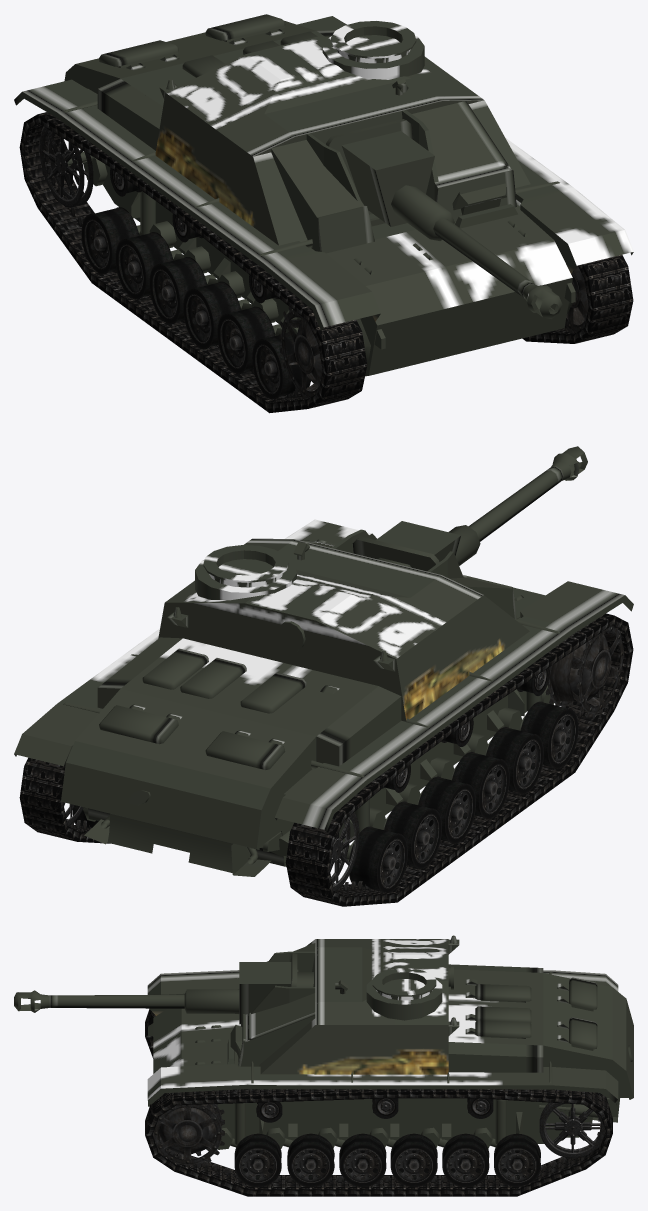
File: stugIII_model_track.FBX
3 views of the same model, one above another, from view 1: azimuth 30°, elevation 25°; view 2: azimuth 150°, elevation 25°; view 3: azimuth 270°, elevation 25° (orthographic). The views are drawn at different scales.
Parts seen in each view (by area): view 1: body, Righttrack, cannon, Lefttrack; view 2: body, Righttrack, cannon, Lefttrack; view 3: body, Lefttrack, cannon.
Part boxes in pixels (x1,y1,x2,y2): body: (14, 14, 633, 376); Righttrack: (19, 112, 367, 413); cannon: (326, 119, 562, 318); Lefttrack: (522, 255, 633, 343); body: (14, 519, 633, 876); Righttrack: (285, 613, 633, 906); cannon: (352, 446, 587, 571); Lefttrack: (19, 757, 110, 843); body: (147, 935, 633, 1149); Lefttrack: (145, 1089, 612, 1196); cannon: (14, 953, 313, 1024).
Size of the model in its own units: 2.94 by 2.16 by 6.69.
